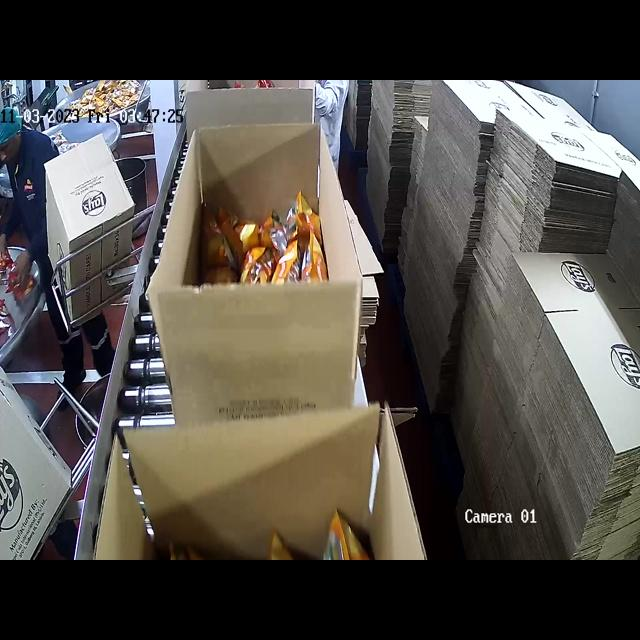cheese: (202, 202, 342, 291), (177, 528, 389, 560)
